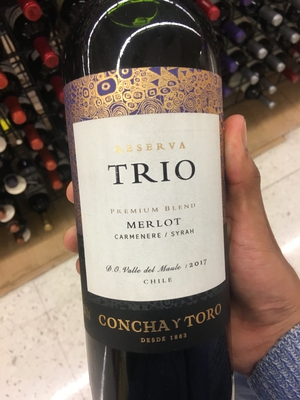trio merlot: (57, 7, 240, 400)
